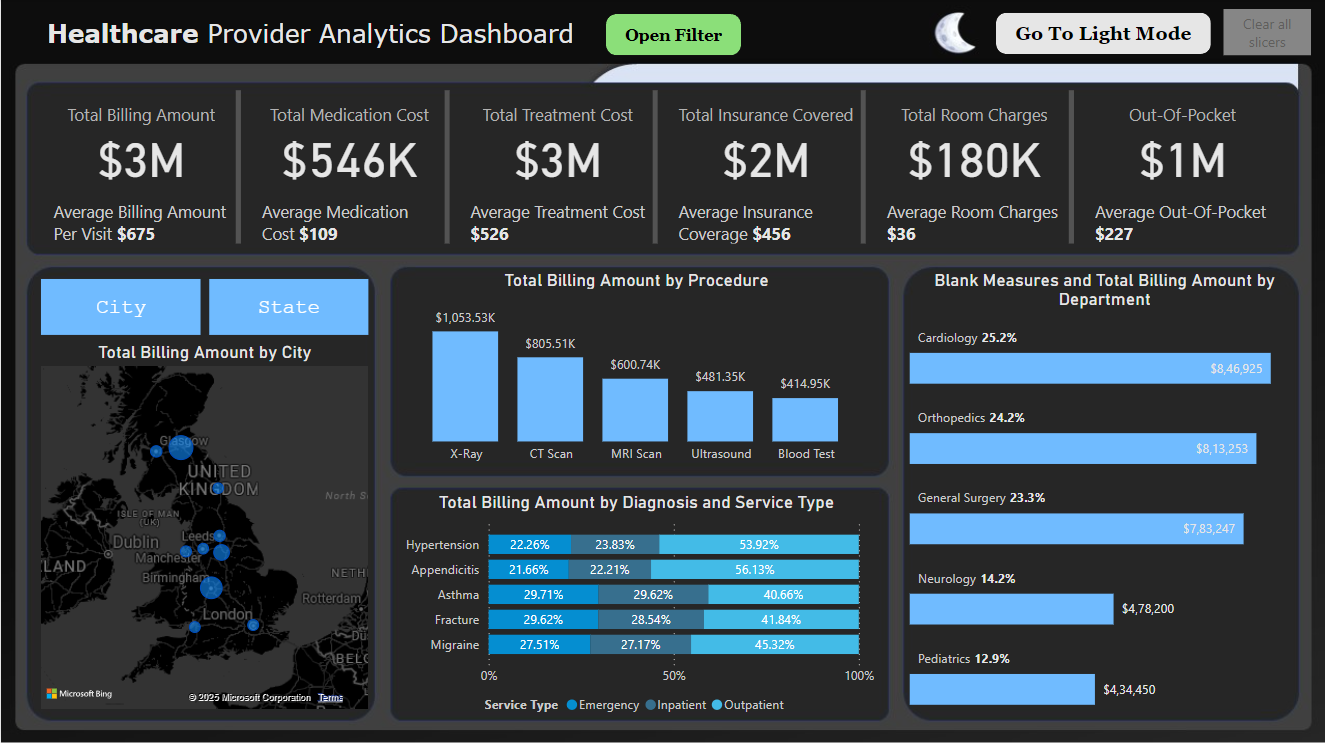

The dashboard page shown, as its layout file describes it:
{"tool":"powerbi","page":{"name":"Dashboard2","canvas":[1280,720],"ordinal":1},"visuals":[{"type":"cardVisual","fields":{"Data":["DAX_Calculations.Total Billing Amount","DAX_Calculations.Total Medication Cost","DAX_Calculations.Total Treatment Cost","DAX_Calculations.Total Insurance Covered","DAX_Calculations.Total Room Charges","DAX_Calculations.Out-Of-Pocket"]},"box":[33.8,83.2,1210.1,158],"z":0},{"type":"map","fields":{"Category":["cities.City","cities.State"],"Size":["DAX_Calculations.Total Billing Amount"]},"box":[33.2,330.4,326.1,359.2],"z":0,"group":"g1"},{"type":"actionButton","title":"Open","box":[583.9,14.5,130.3,39.8],"z":1000,"group":"g2"},{"type":"clusteredColumnChart","fields":{"Category":["procedures.Procedure"],"Y":["DAX_Calculations.Total Billing Amount"]},"box":[378.8,260.6,469.3,196.6],"z":1000},{"type":"advancedSlicerVisual","fields":{"Values":["Patients Location Switch.Patients Location Switch"]},"box":[33.2,265.5,326.1,64.9],"z":1000,"group":"g1"},{"type":"hundredPercentStackedBarChart","fields":{"Category":["diagnoses.Diagnosis"],"Y":["DAX_Calculations.Total Billing Amount"],"Series":["visits.Service Type"]},"box":[378.8,475.3,469.3,224.4],"z":2000},{"type":"clusteredBarChart","fields":{"Category":["departments.Department"],"Y":["DAX_Calculations.Blank Measures","DAX_Calculations.Total Billing Amount"]},"box":[872.3,260.6,386.1,428.3],"z":3000},{"type":"group","id":"g1","title":"Group 1","box":[33.2,265.5,326.1,424.2],"z":4000},{"type":"actionButton","box":[960.3,13.3,207.5,39.8],"z":5000},{"type":"group","id":"g2","title":"Slicer B","box":[583.9,14.5,275.1,41],"z":6000},{"type":"textbox","box":[13.3,13.3,570.6,49.5],"z":7000},{"type":"actionButton","box":[1179.9,9.7,84.5,44.6],"z":9000}]}

Visuals, with their boxes in screenshot pixels (x1, y1, x2, y2), scaled from the page's 1280x720 canvas onto the 1325x743 screenshot:
cardVisual - DAX_Calculations.Total Billing Amount x DAX_Calculations.Total Medication Cost: [35,86,1288,249]
map - cities.City x cities.State: [34,341,372,712]
"Open" actionButton: [604,15,739,56]
clusteredColumnChart - procedures.Procedure x DAX_Calculations.Total Billing Amount: [392,269,878,472]
advancedSlicerVisual - Patients Location Switch.Patients Location Switch: [34,274,372,341]
hundredPercentStackedBarChart - diagnoses.Diagnosis x DAX_Calculations.Total Billing Amount: [392,490,878,722]
clusteredBarChart - departments.Department x DAX_Calculations.Blank Measures: [903,269,1303,711]
"Group 1" group: [34,274,372,712]
actionButton: [994,14,1209,55]
"Slicer B" group: [604,15,889,57]
textbox: [14,14,604,65]
actionButton: [1221,10,1309,56]
